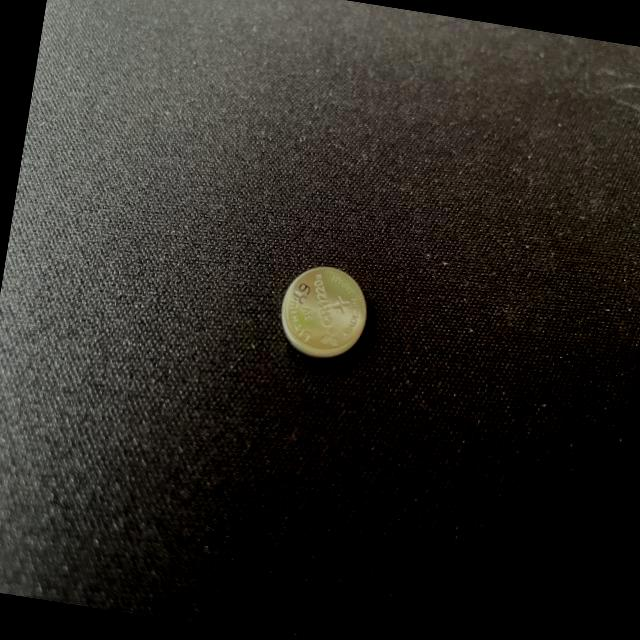COIN: (270, 256, 377, 372)
